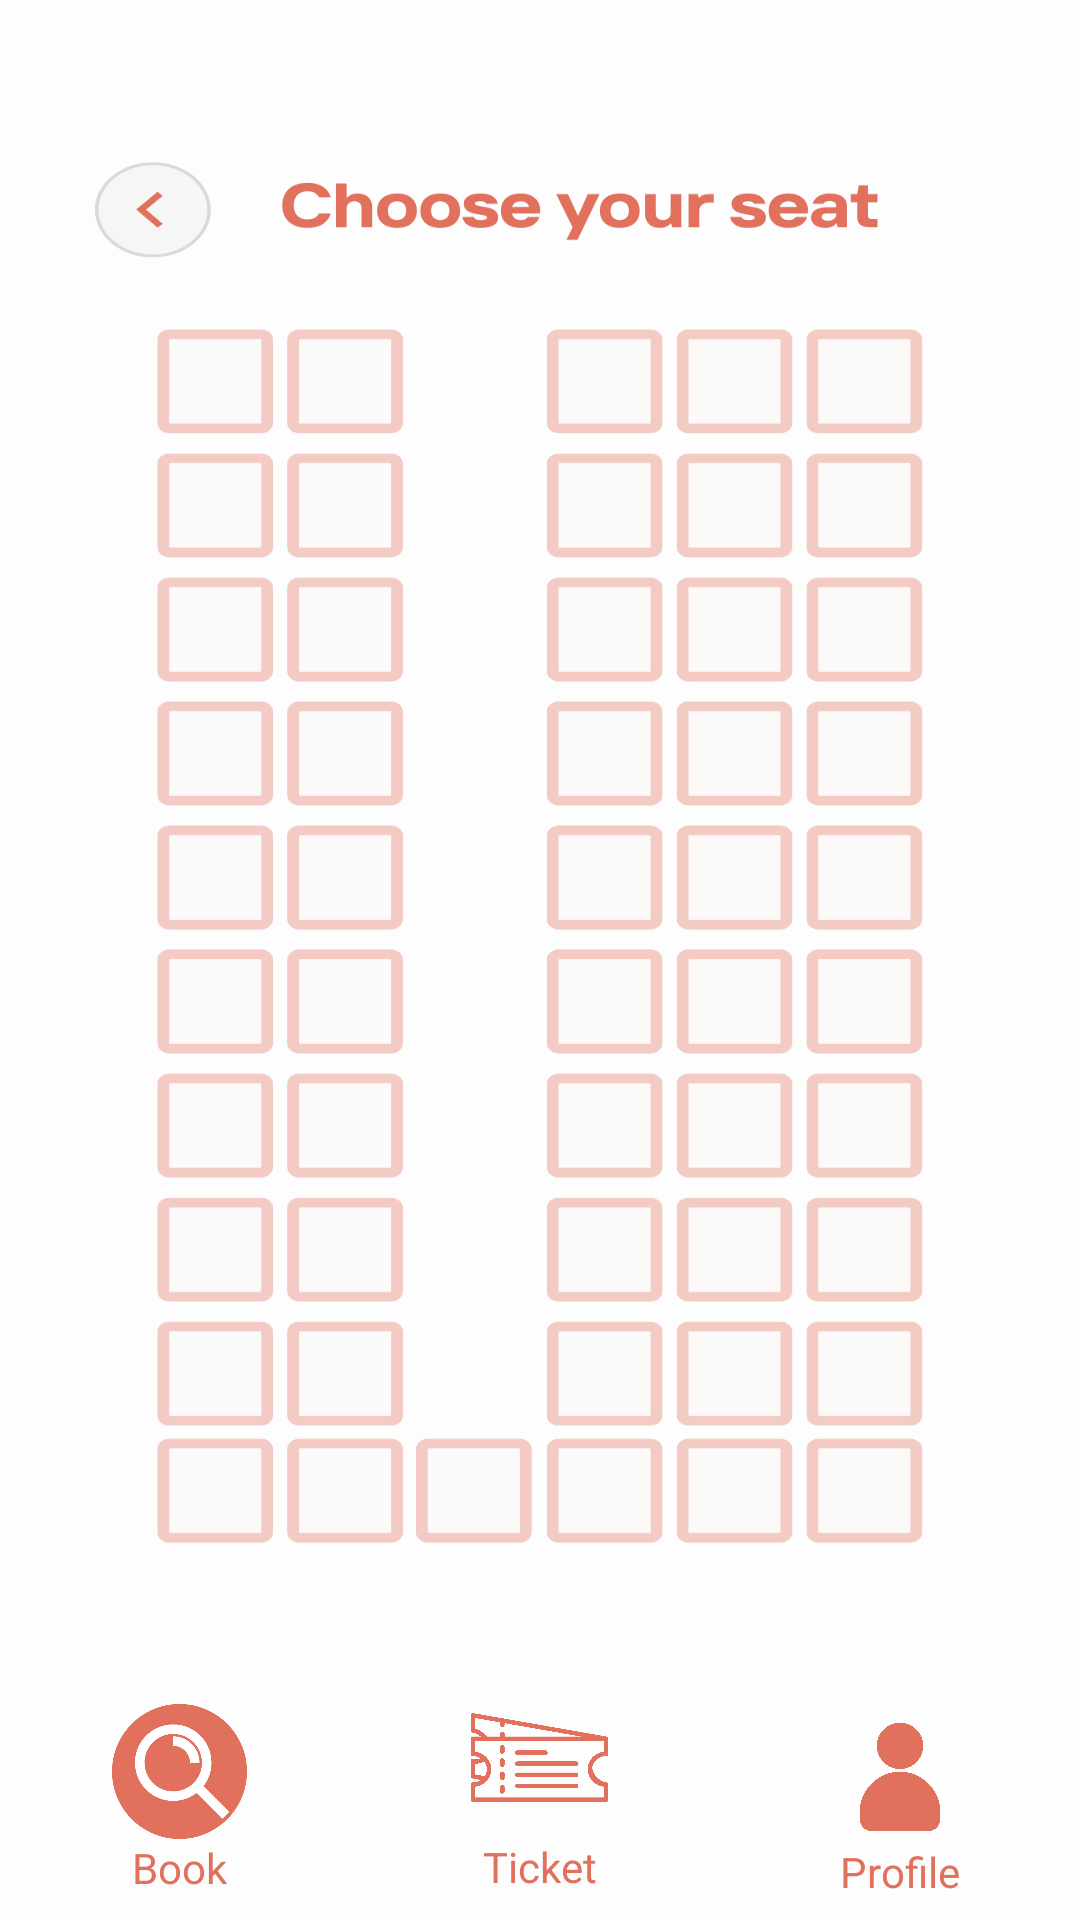

Icon bounding boxes for this 1080px x 1920px phone screenshot, format region(x1, y1, x2, y2):
iconuser: region(860, 1723, 940, 1831)
